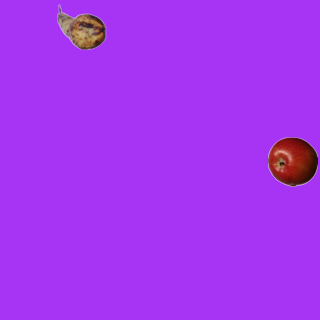Apple Braeburn: (267, 136, 317, 186)
Pear Abate: (56, 2, 106, 52)
